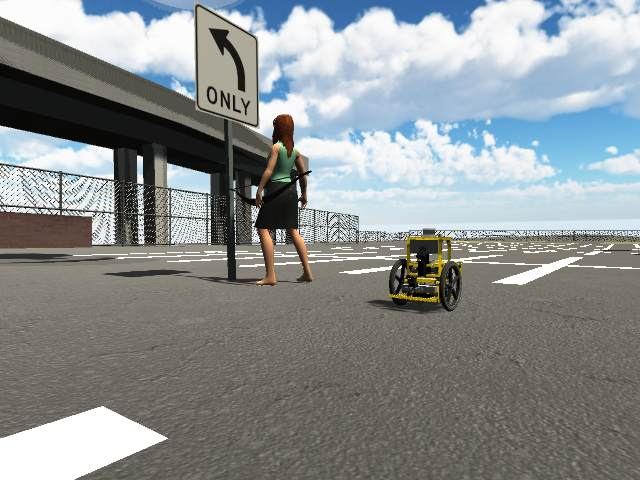arrow_left: (205, 25, 250, 89)
